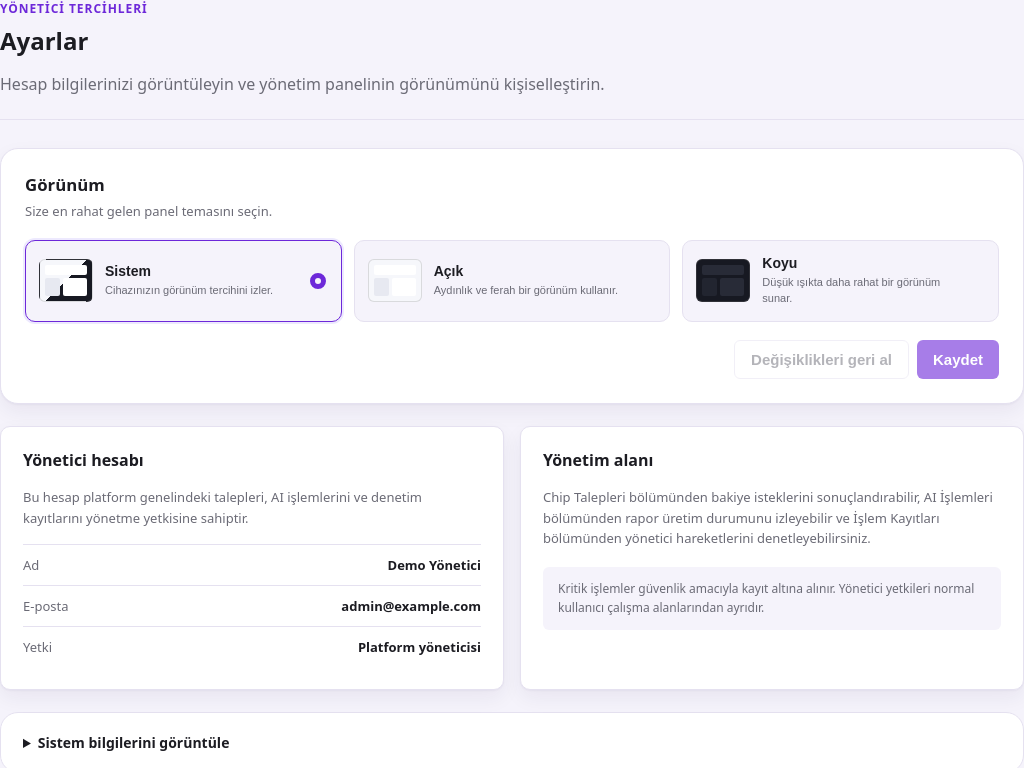
AdminSettings › hesap bilgilerini, tema tercihini ve guvenli sistem bilgilerini gosterir
expect the heading "Ayarlar" is shown: met, box [0,24,88,57]
expect the heading "Görünüm" is shown: met, box [25,173,105,196]
Click the radio button labelled "Koyu Düşük ışıkta daha rahat bir görünüm sunar.": (841, 281) [682,240,999,322]
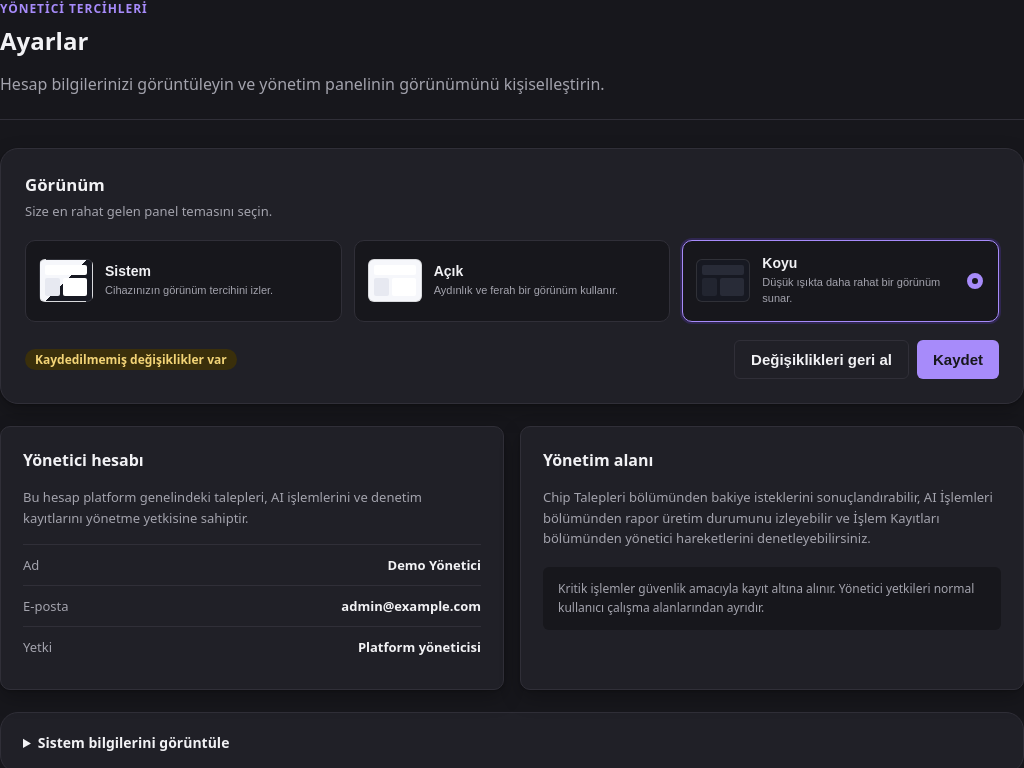
Click the button "Değişiklikleri geri al": (822, 359) [734,340,909,379]
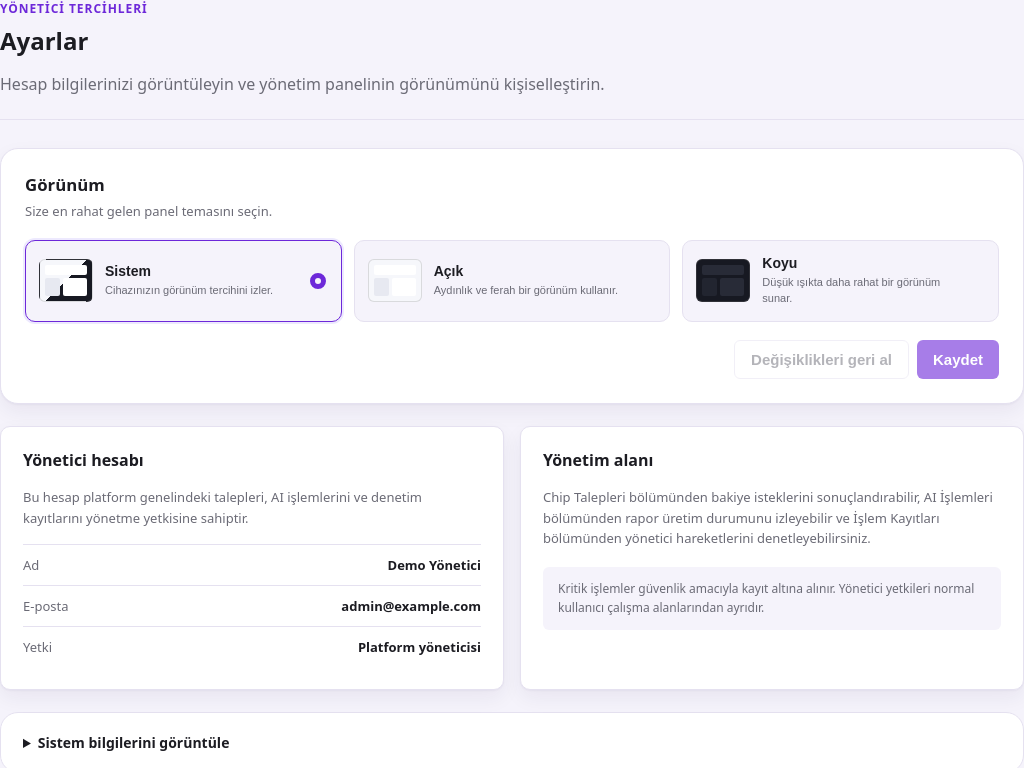
Click the radio button labelled "Açık Aydınlık ve ferah bir görünüm kullanır.": (395, 281) [354,240,670,322]
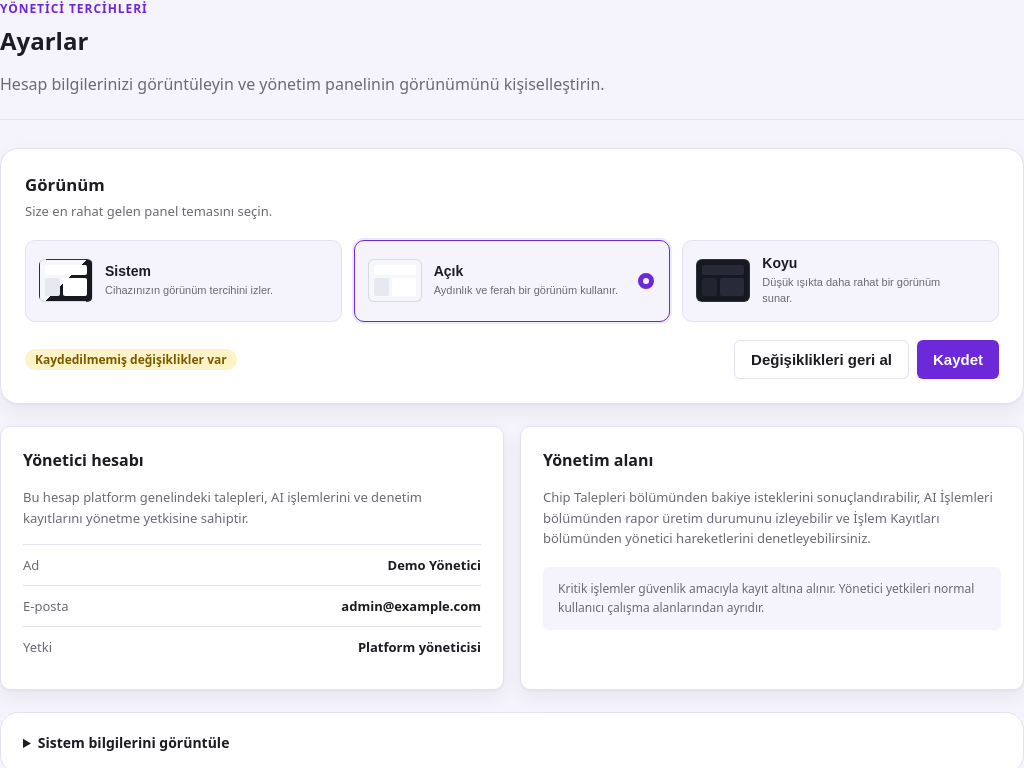
Click the button "Kaydet": (958, 359) [917,340,999,379]
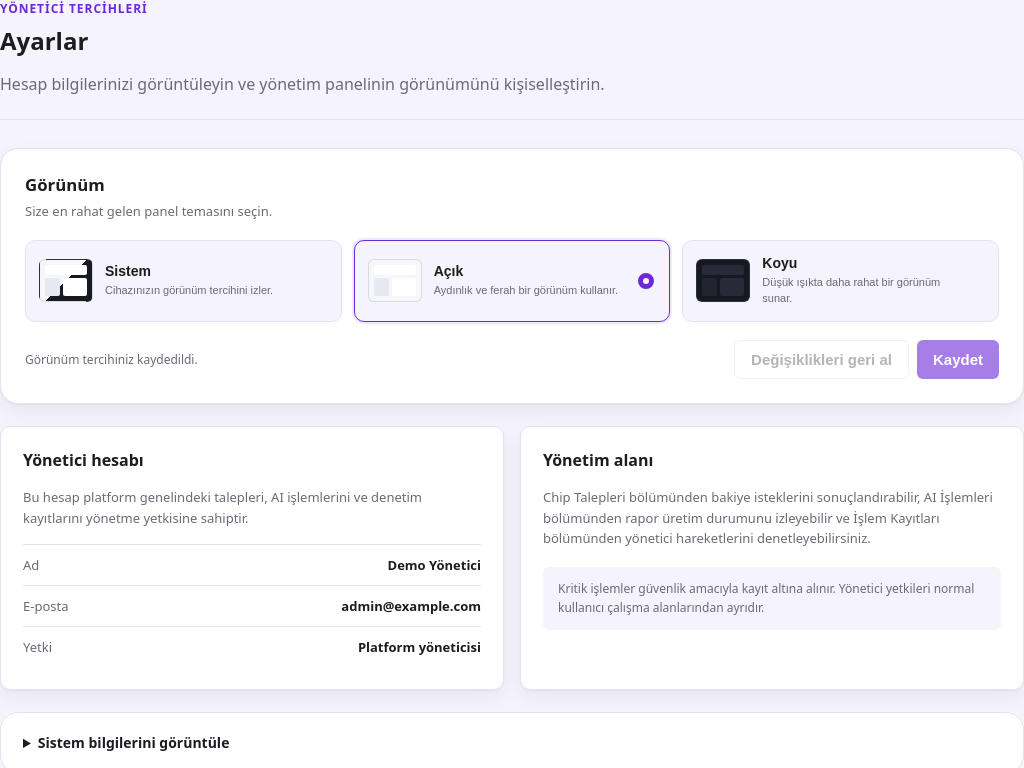
expect the text "Görünüm tercihiniz kaydedildi." is shown: met, box [25,351,198,368]
